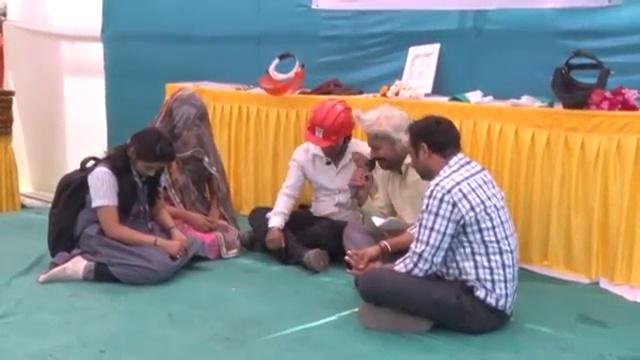helmet: (300, 98, 357, 151)
helmet_off: (407, 114, 464, 185), (359, 108, 413, 182), (158, 88, 211, 154), (123, 125, 174, 188)
helmet_on: (300, 100, 358, 167)
person: (336, 109, 518, 330), (42, 122, 193, 286), (245, 102, 372, 269), (147, 82, 239, 262), (342, 110, 431, 273)
